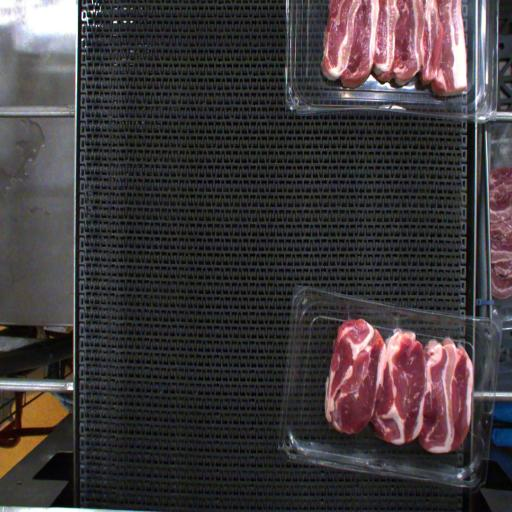packaging-error: (342, 303, 356, 323), (393, 317, 406, 334)
